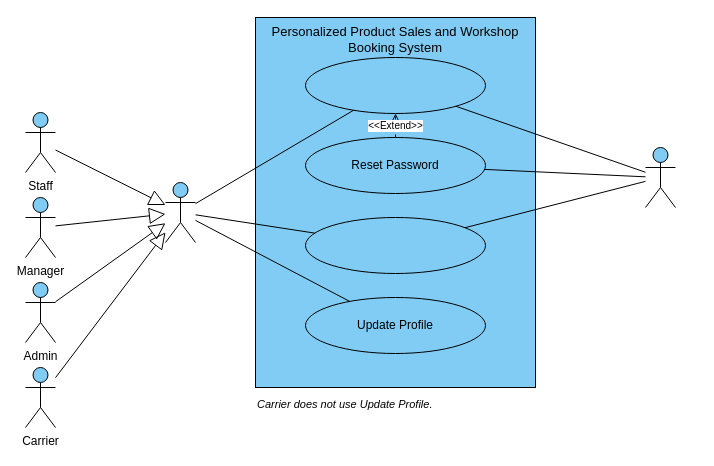
Some shapes in this 714 by 466 pixel diagram are drawn without their labels. The shapes that lost their labels are listed below. From the top down, each one's centre as x and y in pixels, then its label:
At point 395,85: "Sign In".
At point 660,177: "SSO Provider".
At point 180,212: "Member".
At point 395,245: "Change Password".
